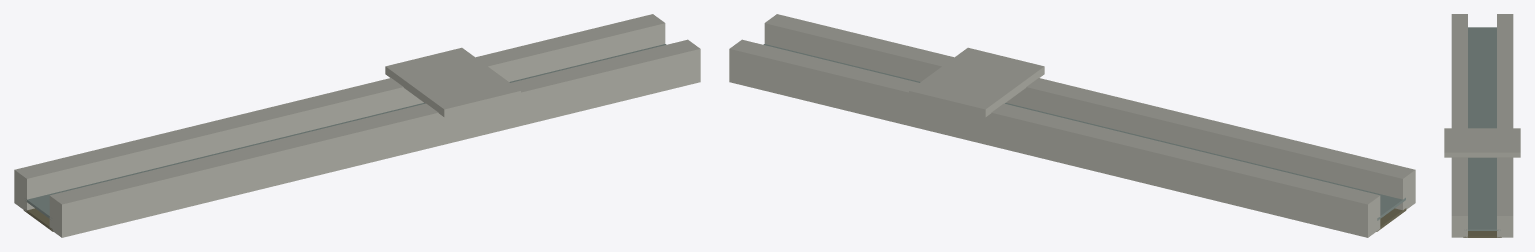
The model's file is SM_Acequia_v3_Pasarela_LOD1.fbx.
The picture shows the model from 3 angles, left to right: view 1: azimuth 30°, elevation 25°; view 2: azimuth 150°, elevation 25°; view 3: azimuth 270°, elevation 25°; orthographic projection. The views are drawn at different scales.
Parts seen in each view (by area): view 1: SM_huerta_nules_v18_LOD1; view 2: SM_huerta_nules_v18_LOD1; view 3: SM_huerta_nules_v18_LOD1.
Part boxes in pixels (x1,y1,x2,y2): SM_huerta_nules_v18_LOD1: [14, 14, 700, 237]; SM_huerta_nules_v18_LOD1: [729, 14, 1415, 237]; SM_huerta_nules_v18_LOD1: [1444, 14, 1520, 237].
Size of the model in its own units: 10 by 0.62 by 1.6.
